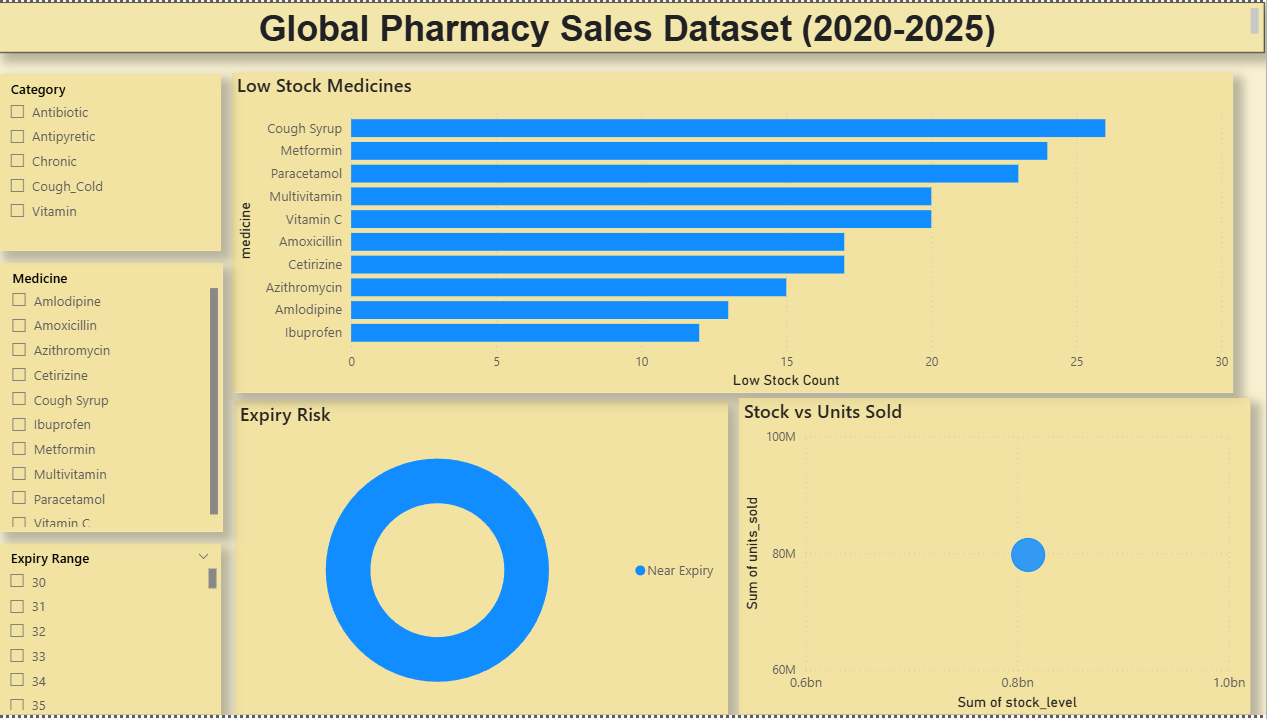

Layout of this report page (visuals, bound fields, positions):
{"tool":"powerbi","page":{"name":"INVENTORY & EXPIRY ANALYSIS","canvas":[1280,720],"ordinal":4},"visuals":[{"type":"textbox","box":[0,0,1279.5,51.5],"z":0},{"type":"donutChart","title":"Expiry Risk","fields":{"Y":["global_pharmacy_sales_2020_2025.Near Expiry"]},"box":[239.2,402.7,498.2,316.5],"z":1000},{"type":"barChart","title":"Low Stock Medicines","fields":{"Category":["global_pharmacy_sales_2020_2025.medicine"],"Y":["global_pharmacy_sales_2020_2025.Low Stock Count"]},"box":[236.2,71.8,1011,323.2],"z":2000},{"type":"slicer","fields":{"Values":["global_pharmacy_sales_2020_2025.category"]},"box":[0,72.7,225.6,178.7],"z":4000},{"type":"slicer","fields":{"Values":["global_pharmacy_sales_2020_2025.medicine"]},"box":[1.5,263.5,225.6,271],"z":5000},{"type":"slicer","fields":{"Values":["global_pharmacy_sales_2020_2025.expiry_days_remaining"]},"box":[0,546.6,225.6,172.6],"z":6000},{"type":"scatterChart","title":"Stock vs Units Sold","fields":{"X":["Sum(global_pharmacy_sales_2020_2025.stock_level)"],"Y":["Sum(global_pharmacy_sales_2020_2025.units_sold)"],"Size":["global_pharmacy_sales_2020_2025.Total Sales"]},"box":[748,399.8,516.3,319.5],"z":7000}]}

Visuals, with their boxes on the page's 1280x720 design canvas (x1, y1, x2, y2). These are canvas units, not pixel positions in the 1270x719 screenshot, which may show the page scaled, cropped or inside an application window:
textbox: (left=0, top=0, right=1280, bottom=52)
"Expiry Risk" donutChart: (left=239, top=403, right=737, bottom=719)
"Low Stock Medicines" barChart: (left=236, top=72, right=1247, bottom=395)
slicer - global_pharmacy_sales_2020_2025.category: (left=0, top=73, right=226, bottom=251)
slicer - global_pharmacy_sales_2020_2025.medicine: (left=2, top=264, right=227, bottom=534)
slicer - global_pharmacy_sales_2020_2025.expiry_days_remaining: (left=0, top=547, right=226, bottom=719)
"Stock vs Units Sold" scatterChart: (left=748, top=400, right=1264, bottom=719)
